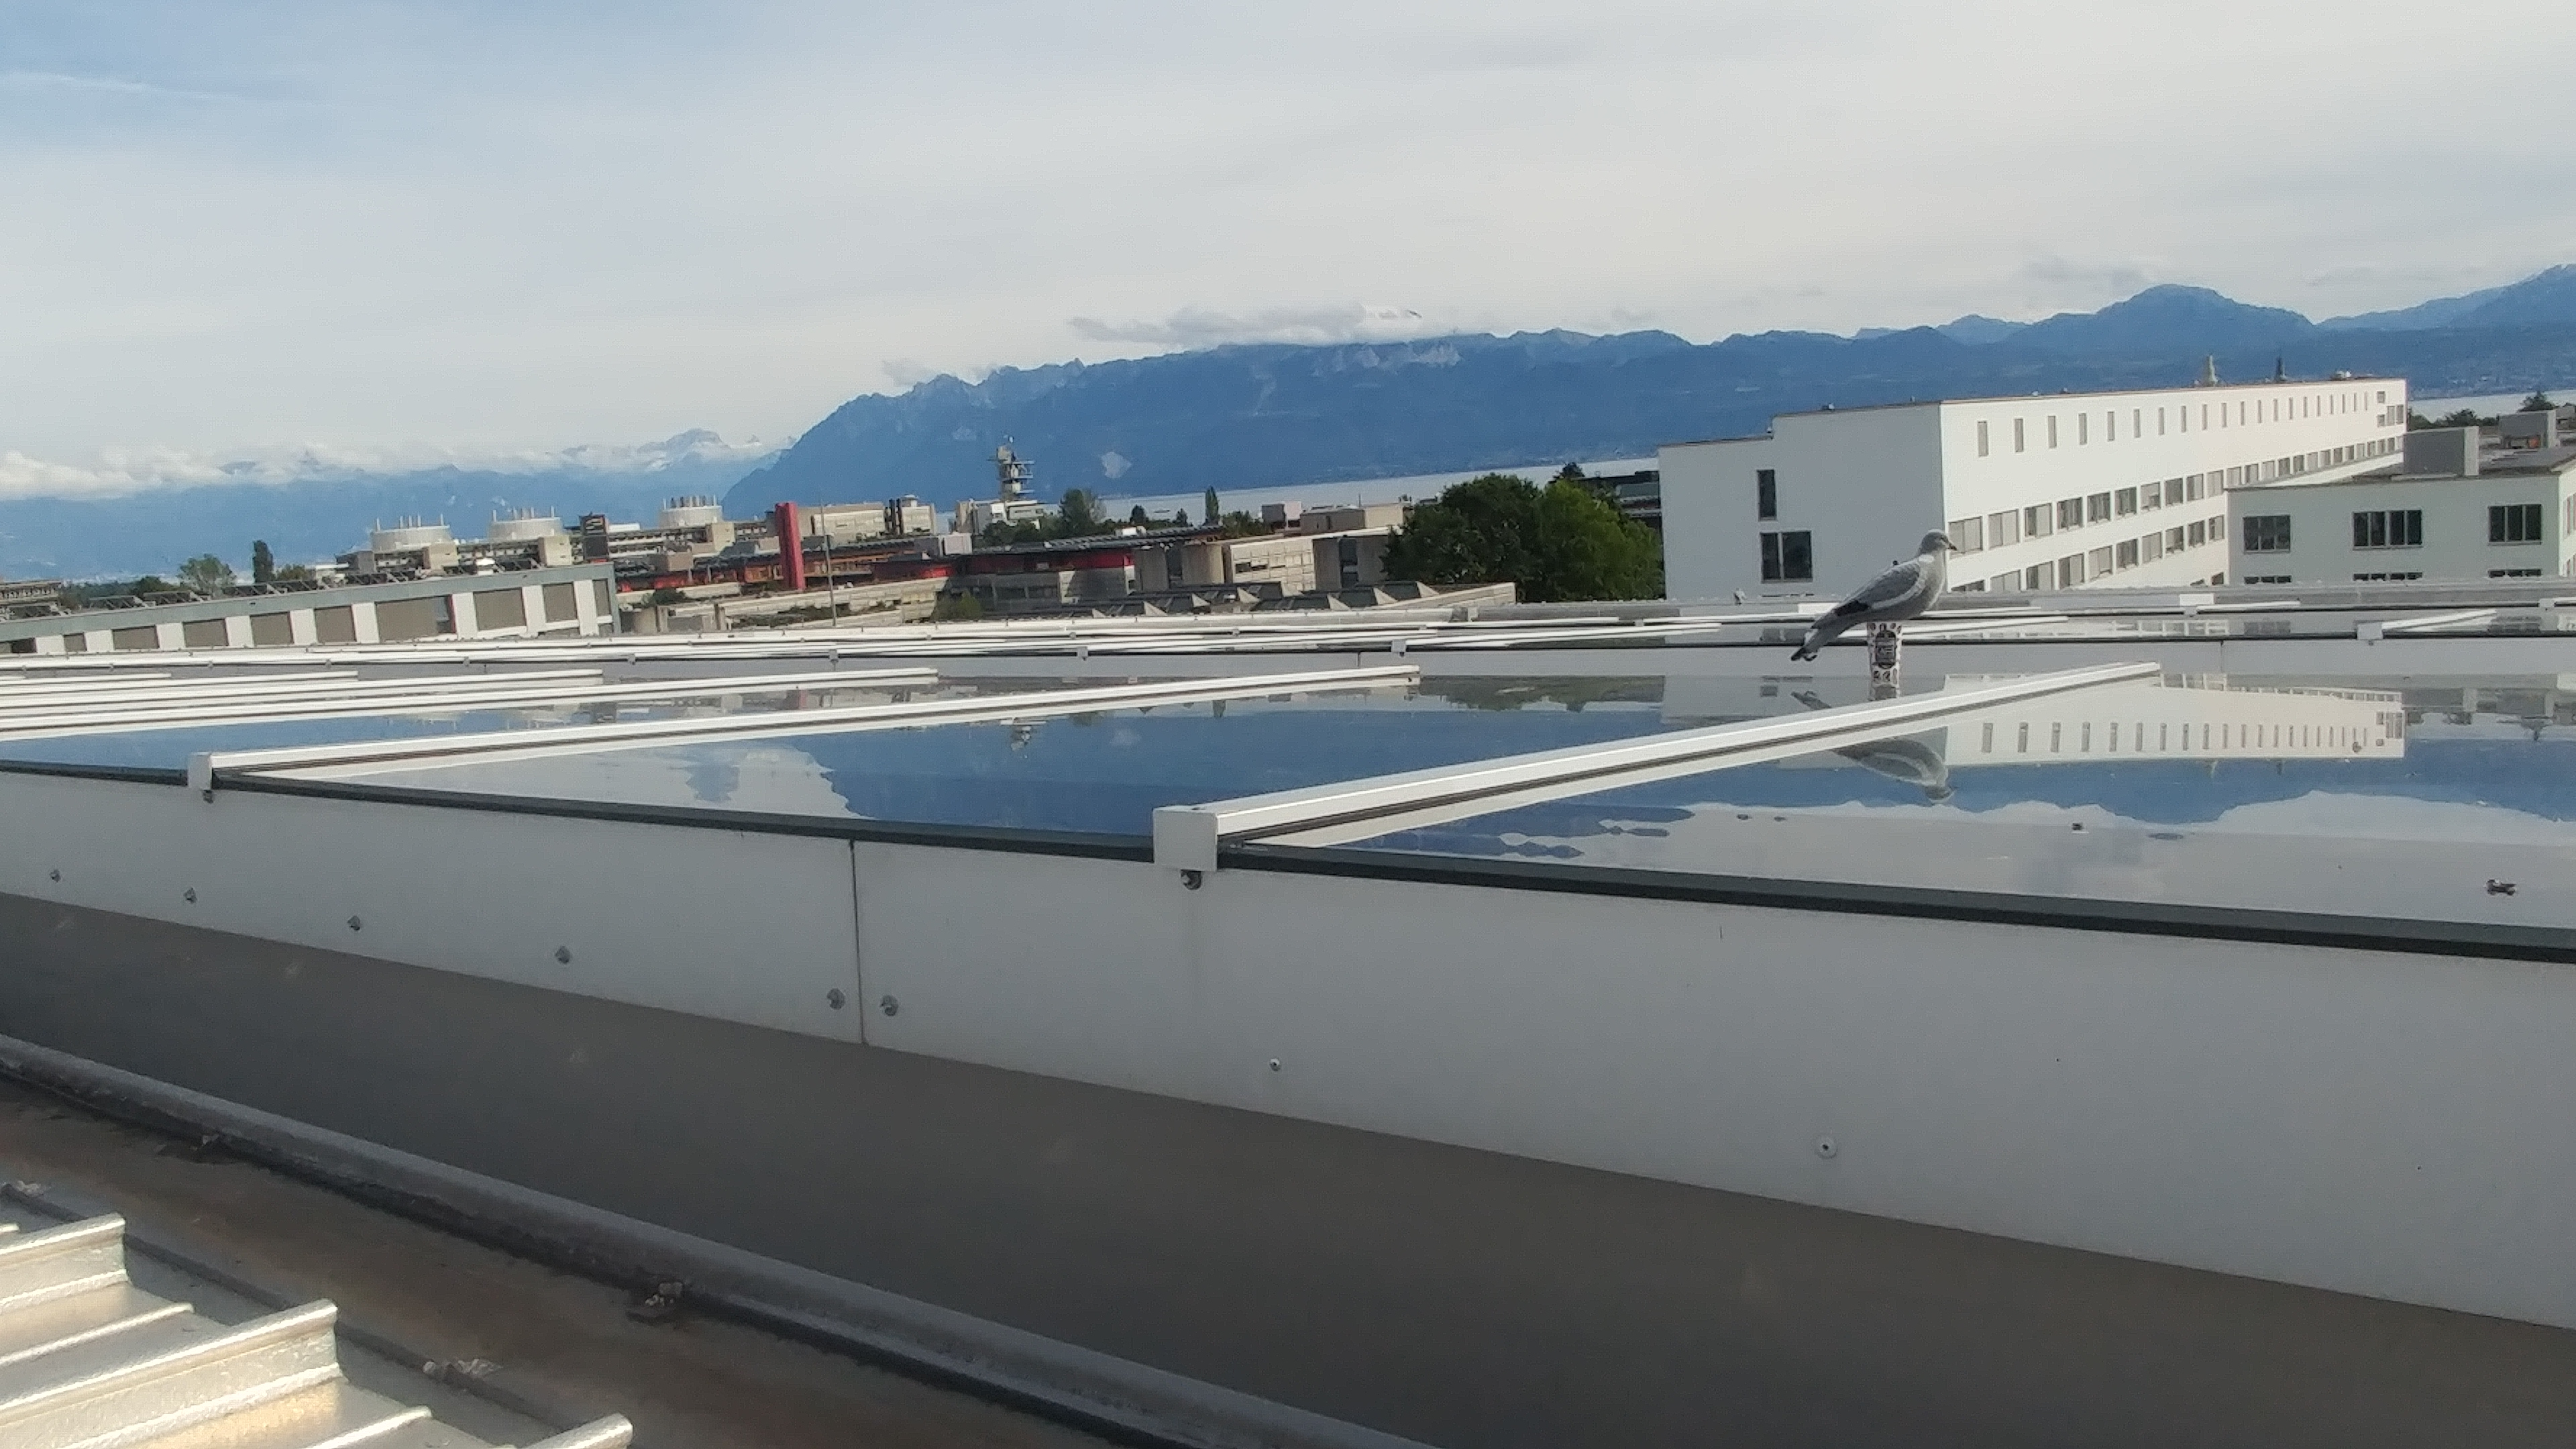Pigeon: (1792, 533, 1959, 651)
